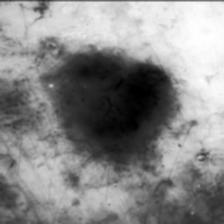Potentially Malignant Skin Tumors: (87, 71, 170, 136)
